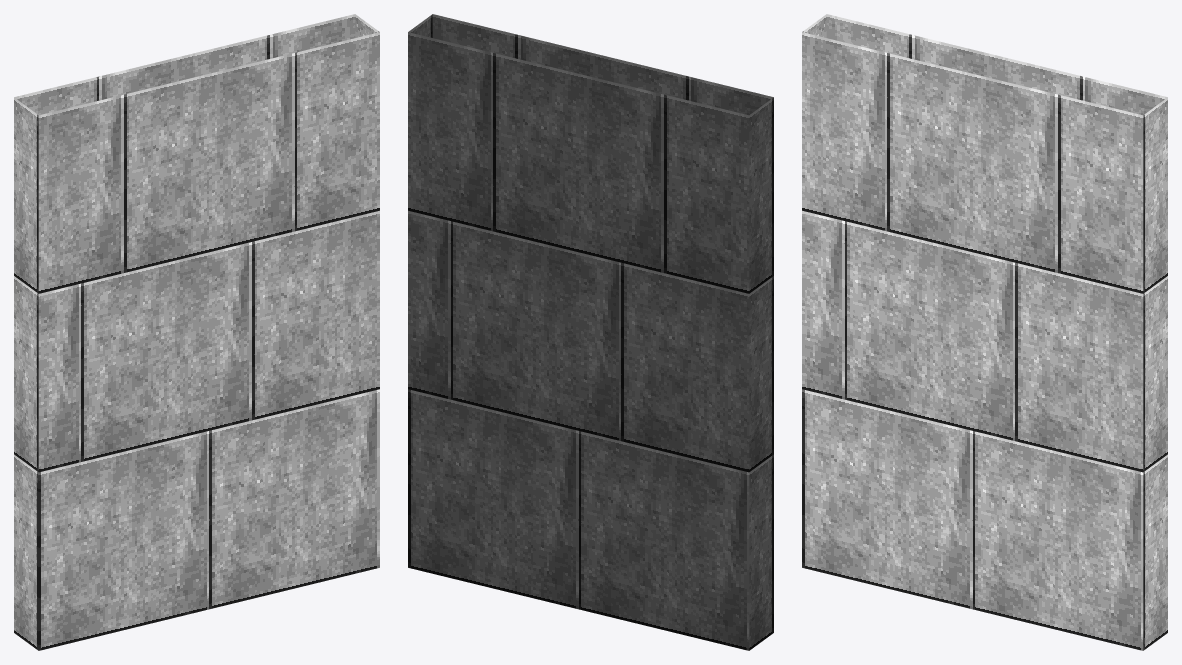
The model's file is Pdoor_aztecZ.obj.
The picture shows the model from 3 angles, left to right: view 1: azimuth 30°, elevation 25°; view 2: azimuth 150°, elevation 25°; view 3: azimuth 330°, elevation 25°; orthographic projection.
Bounding box in the file's own units: 700 × 1050 × 88.
Materials: 1 (1 with a texture image).
